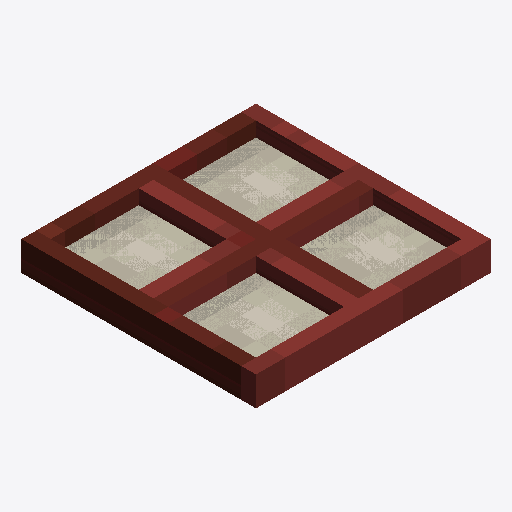
Isometric view (azimuth 45°, elevation 35.3°) of a Minecraft model made of 8 cuboids, textured from the same repository.
Visible parts, largest first — element 8, element 2, element 3, element 5, element 1, element 4, element 6, element 7.
Boxes of the visible parts, <box> form: element 8: <box>65,138,446,356</box>; element 2: <box>241,231,490,407</box>; element 3: <box>36,239,255,398</box>; element 5: <box>139,172,372,314</box>; element 1: <box>21,104,269,280</box>; element 4: <box>256,112,475,246</box>; element 6: <box>139,239,255,314</box>; element 7: <box>257,172,372,246</box>.
Size of the model in its own units: 16 by 2 by 16.